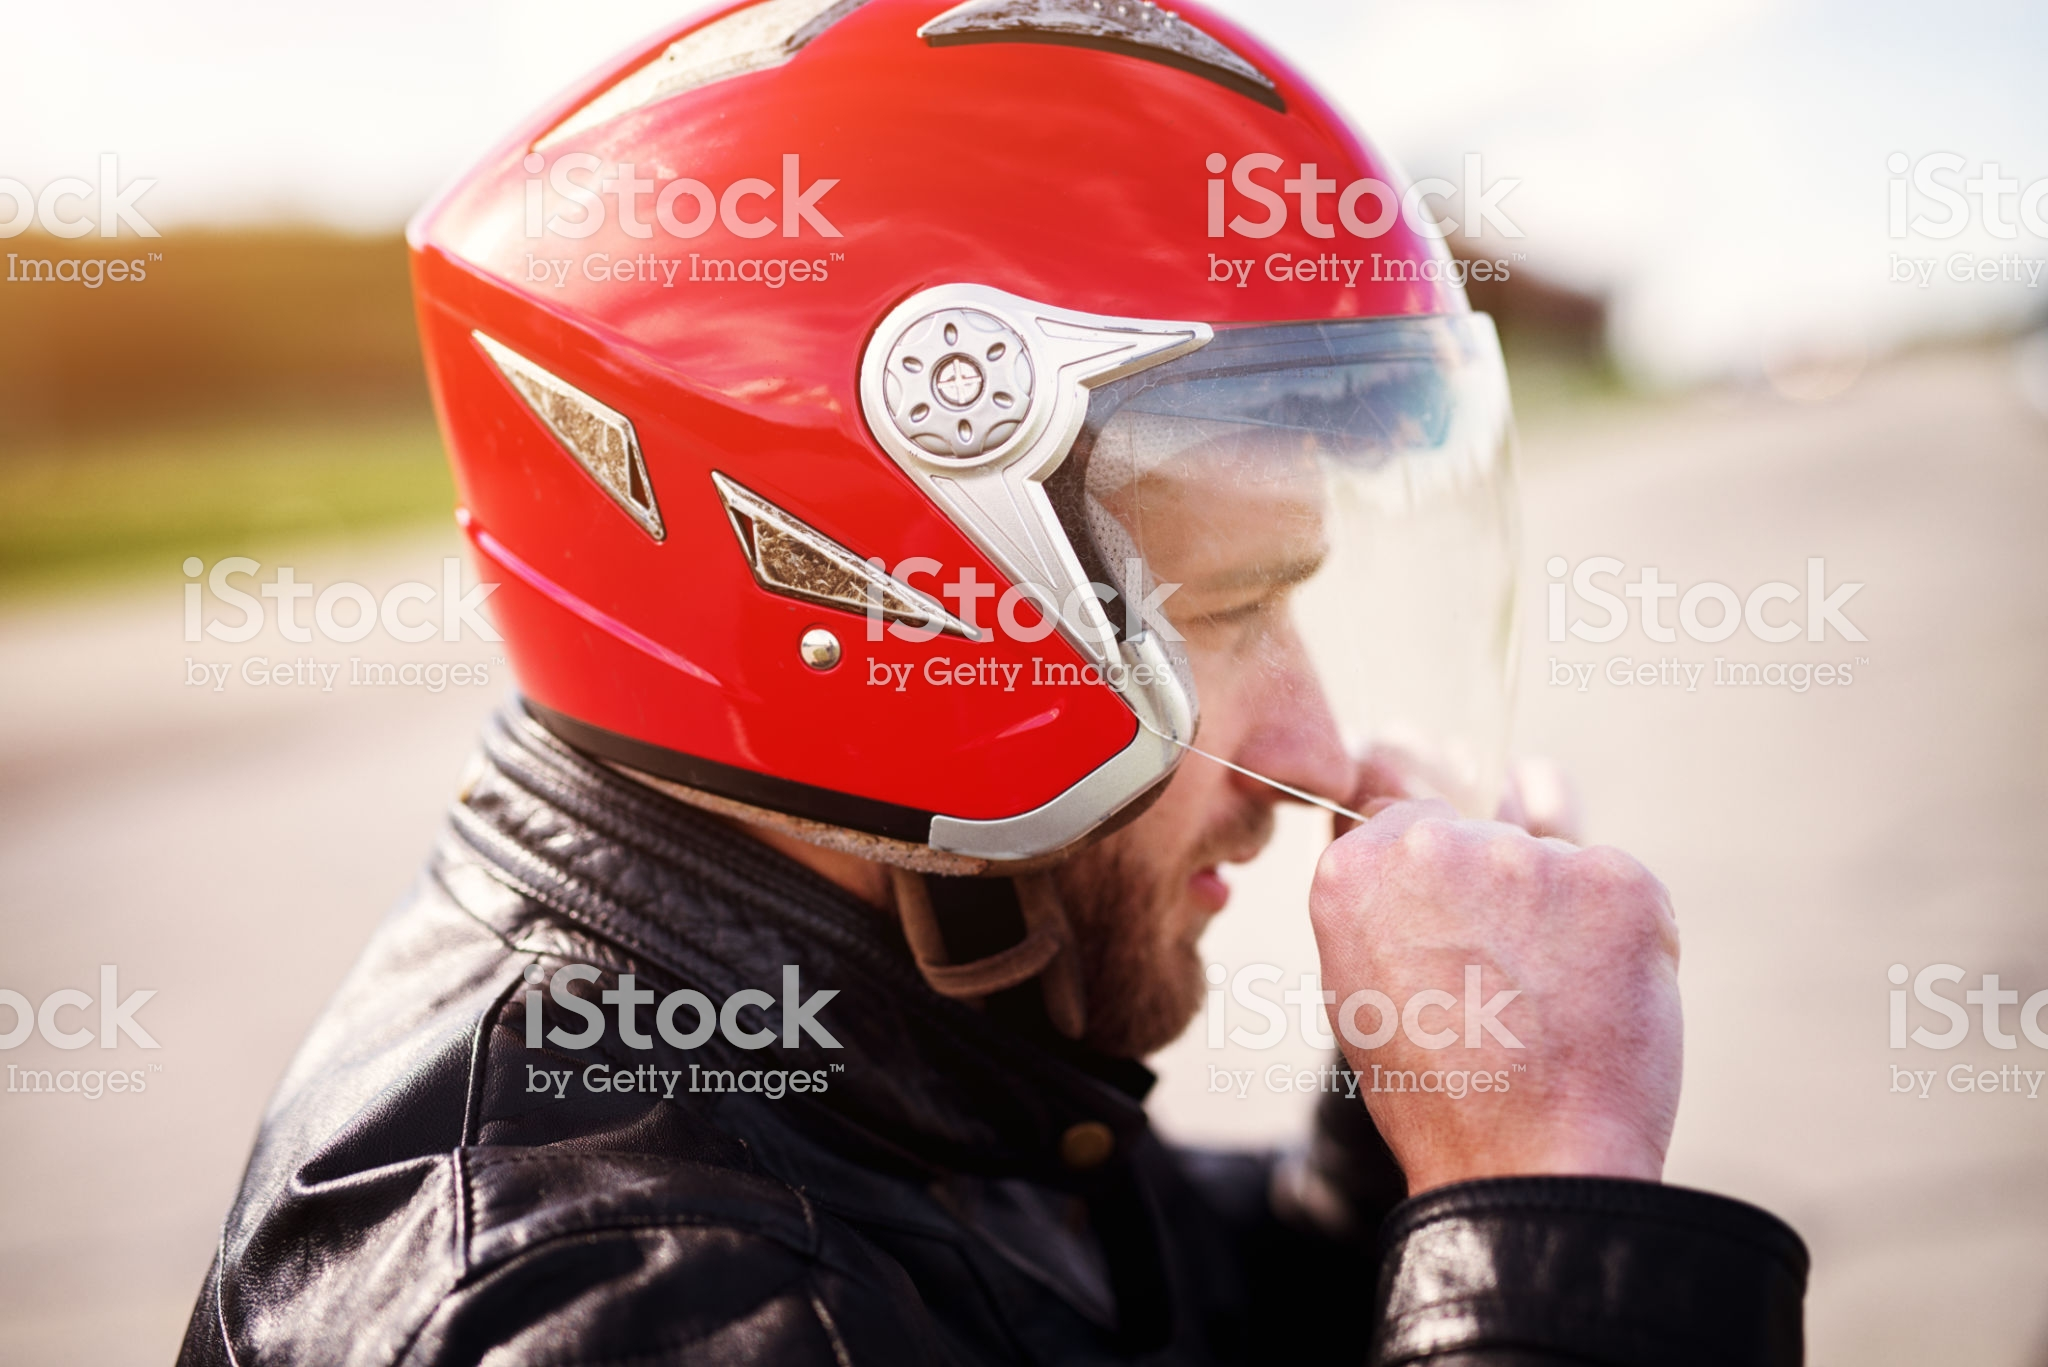helmet: (412, 21, 1563, 880)
